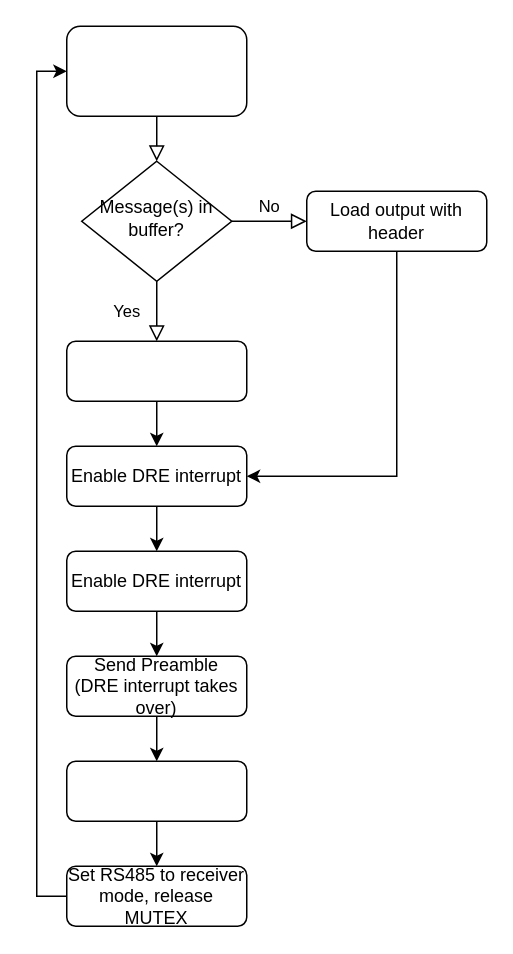
The diagram is 513 pixels wide and 954 high, and some of its shapes have lost their labels. Here are the shapes that lost their labels. From the top down, the centre of each, then its label:
At point 156,70: "Notification received from RX (grab MUTEX and set output to TX mode)".
At point 156,370: "Load output stream with message and header".
At point 156,790: "Wait for Transmission complete notification".
